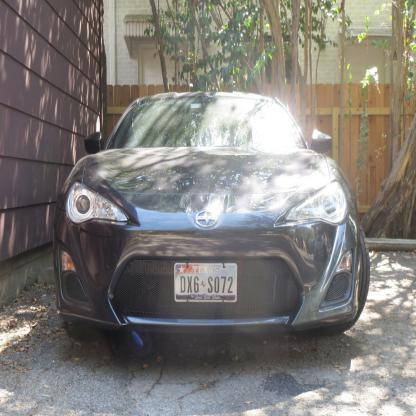Car: (48, 90, 374, 357)
